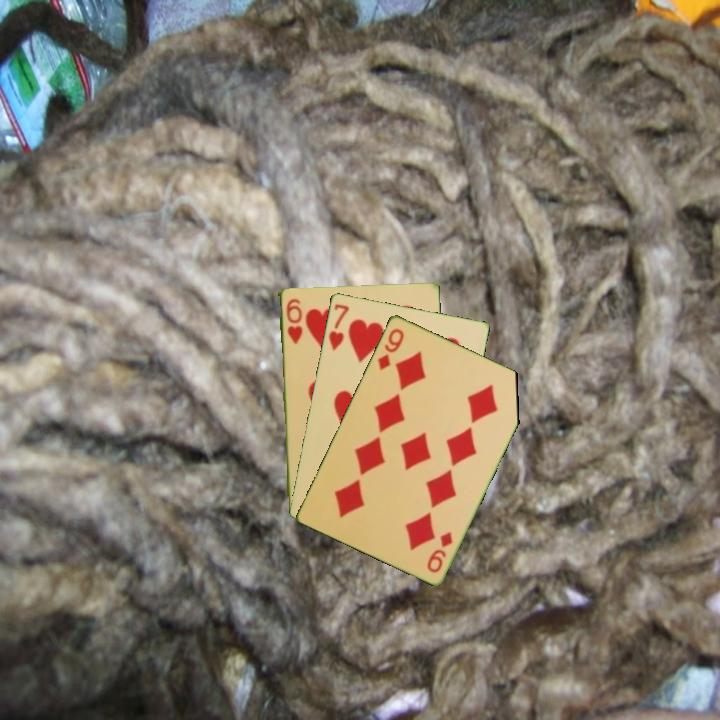6h: (282, 295, 305, 347)
7h: (325, 300, 352, 354)
9d: (374, 324, 407, 373), (423, 528, 455, 575)
